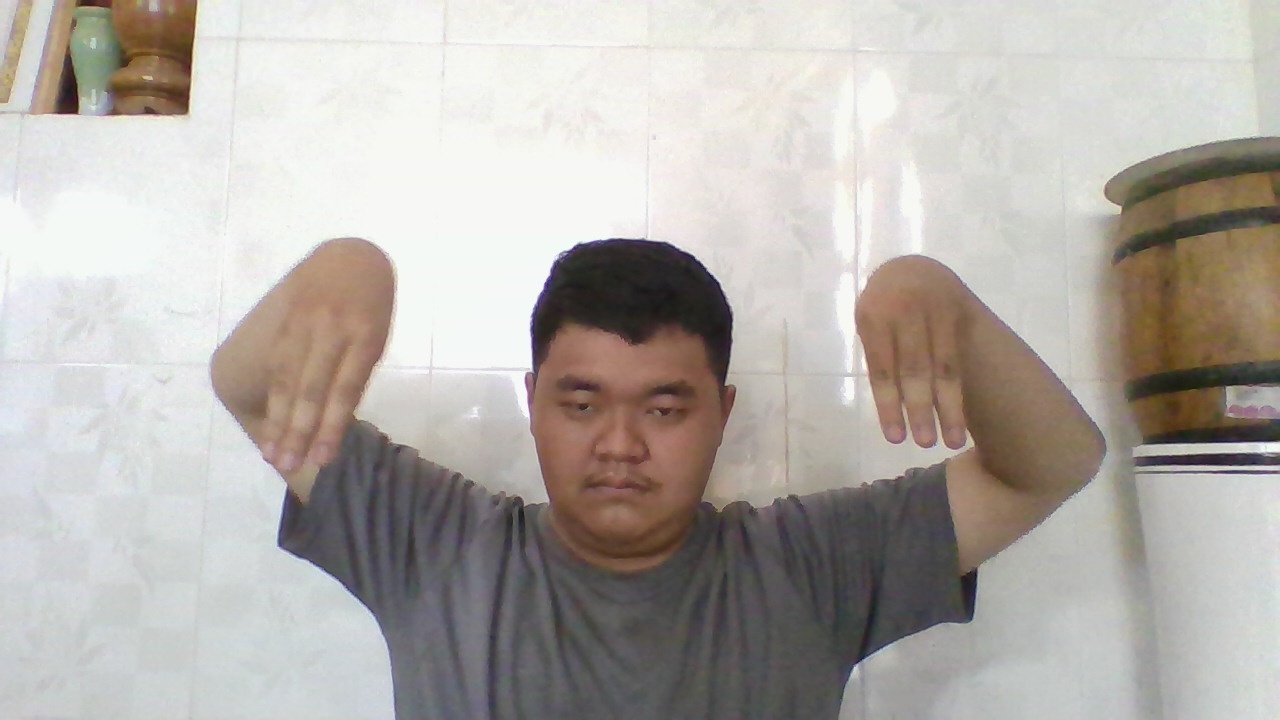M: (241, 232, 400, 482), (851, 247, 981, 465)
